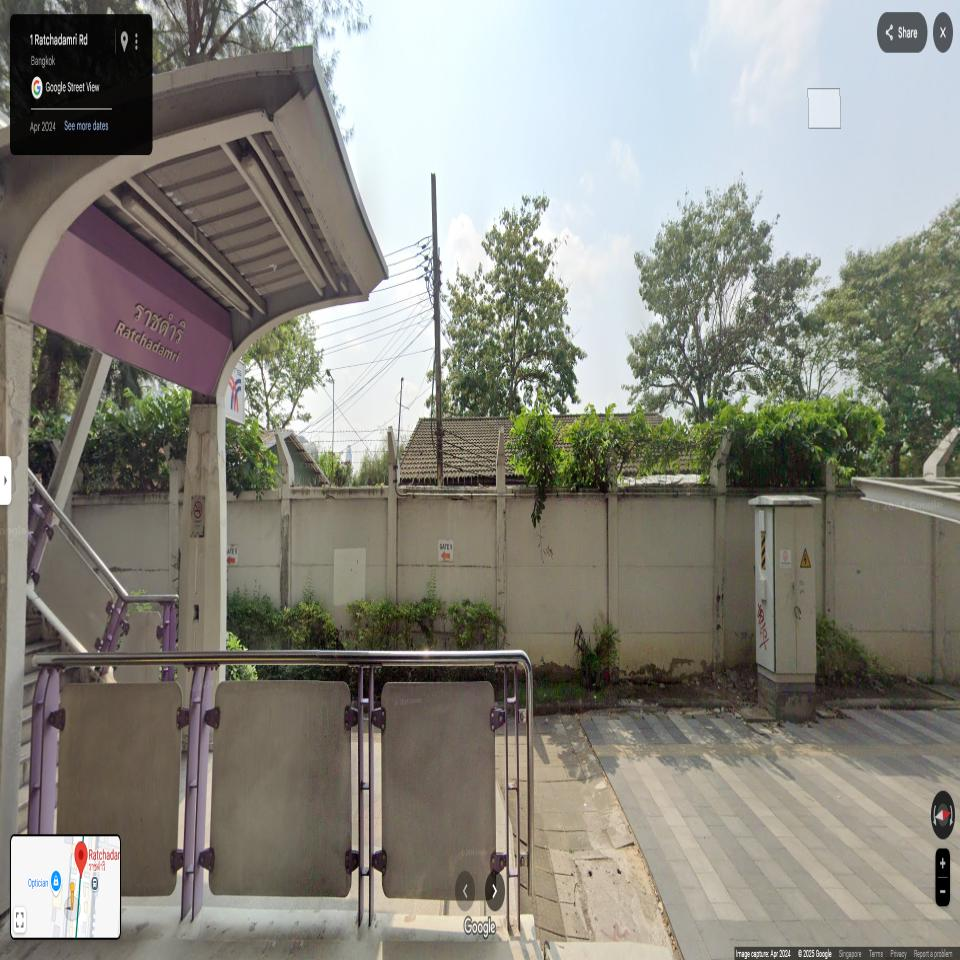signage: (32, 230, 245, 424), (31, 232, 233, 397)
